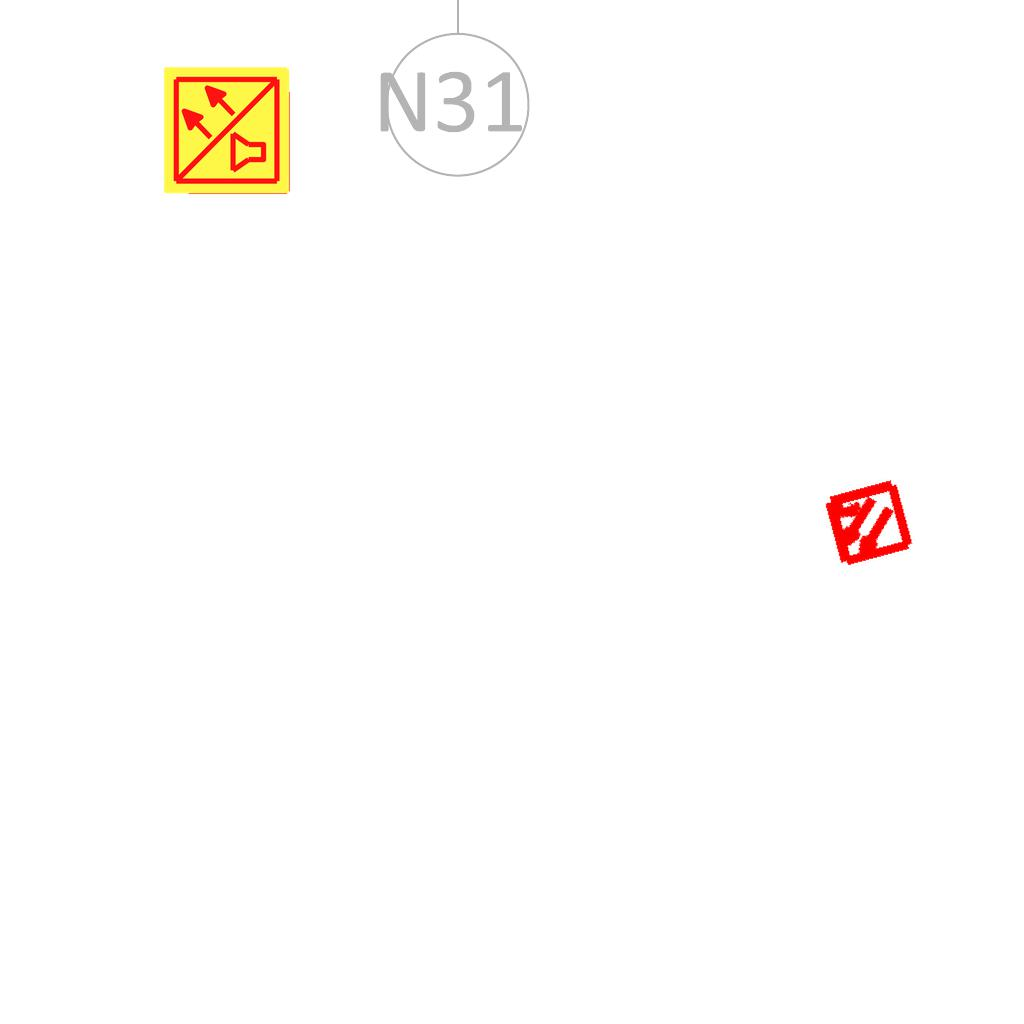OKW_Multisensormelder_(Kombination_optischer_Rauch-Kahlenmonoxid_Waerme-Melder): (161, 64, 293, 196)
OT_Multisensormelder_(Kombination_RMO_WMD): (797, 454, 936, 593)
